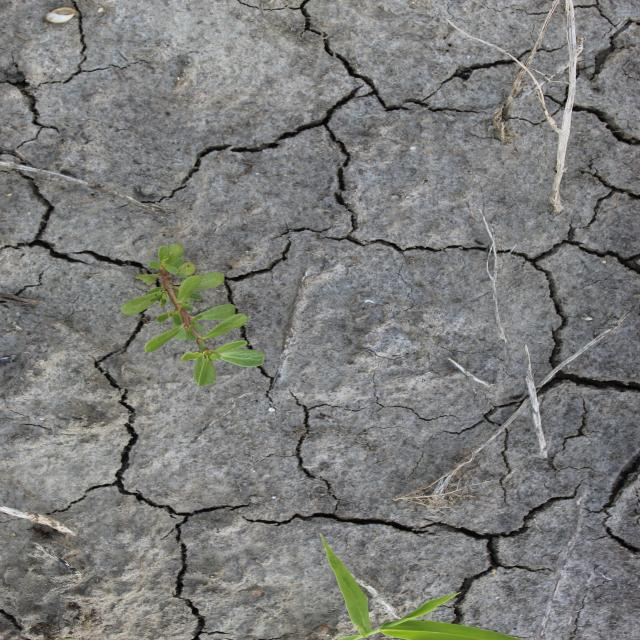Purslane: (120, 242, 268, 387)
